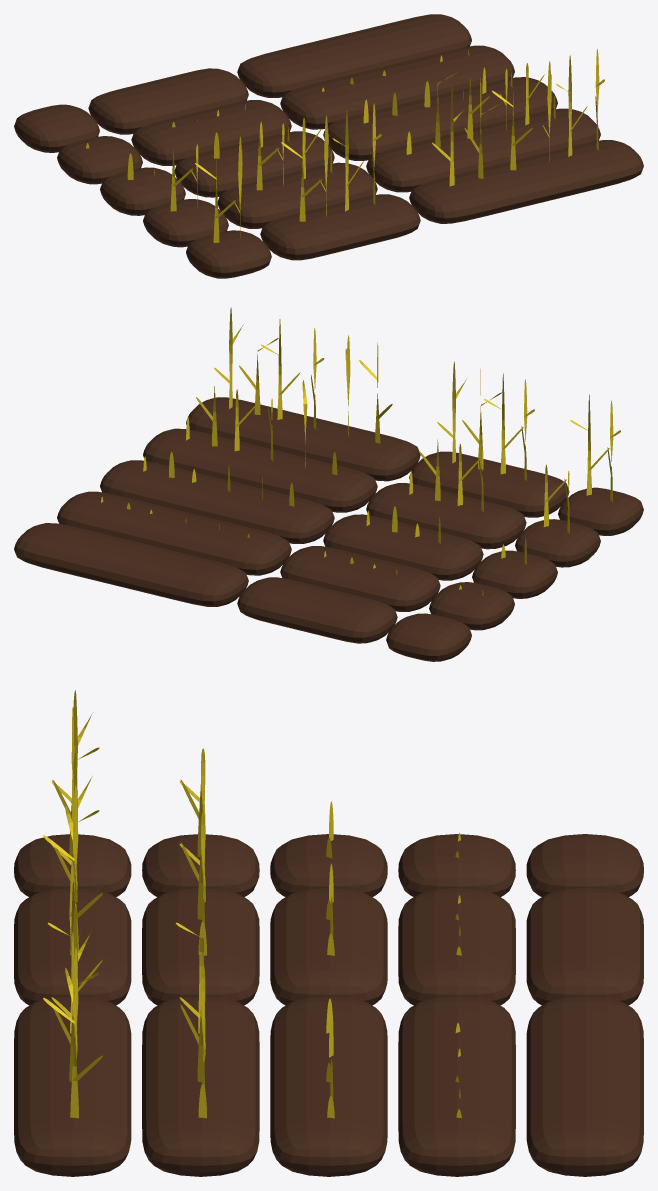
The model's file is straw_plant.glb.
3 views of the same model, one above another, from view 1: azimuth 30°, elevation 25°; view 2: azimuth 150°, elevation 25°; view 3: azimuth 270°, elevation 25° (orthographic). The views are drawn at different scales.
Visible parts, largest first — view 1: l_4, l_3, l_0, l_1, l_2, m_4, m_3, m_0, m_1, m_2, s_4, s_3 (+3 smaller); view 2: l_4, l_0, l_3, l_2, l_1, m_4, m_0, m_3, m_2, m_1, s_4, s_3 (+3 smaller); view 3: l_4, l_3, l_1, l_2, l_0, m_4, m_3, m_2, m_0, m_1, s_4, s_3 (+3 smaller).
Part boxes in pixels (bbox=[...]): l_4: bbox=[409, 49, 643, 223]; l_3: bbox=[366, 63, 600, 192]; l_0: bbox=[237, 14, 471, 97]; l_1: bbox=[280, 45, 514, 129]; l_2: bbox=[323, 67, 557, 160]; m_4: bbox=[260, 103, 420, 260]; m_3: bbox=[217, 117, 377, 228]; m_0: bbox=[88, 68, 248, 134]; m_1: bbox=[131, 100, 291, 165]; m_2: bbox=[175, 121, 334, 197]; s_4: bbox=[186, 137, 271, 278]; s_3: bbox=[143, 144, 228, 247]; l_4: bbox=[186, 307, 420, 481]; l_0: bbox=[14, 523, 248, 606]; l_3: bbox=[143, 380, 377, 512]; l_2: bbox=[100, 451, 334, 543]; l_1: bbox=[57, 491, 291, 575]; m_4: bbox=[409, 361, 569, 517]; m_0: bbox=[237, 577, 397, 643]; m_3: bbox=[366, 439, 526, 549]; m_2: bbox=[323, 506, 483, 580]; m_1: bbox=[280, 546, 440, 611]; s_4: bbox=[558, 394, 643, 535]; s_3: bbox=[515, 464, 600, 567]; l_4: bbox=[14, 861, 131, 1176]; l_3: bbox=[142, 922, 259, 1176]; l_1: bbox=[398, 996, 515, 1176]; l_2: bbox=[270, 996, 387, 1176]; l_0: bbox=[526, 996, 643, 1176]; m_4: bbox=[14, 753, 131, 1005]; m_3: bbox=[142, 811, 259, 1005]; m_2: bbox=[270, 864, 387, 1005]; m_0: bbox=[526, 888, 643, 1005]; m_1: bbox=[398, 888, 515, 1005]; s_4: bbox=[14, 690, 131, 896]; s_3: bbox=[142, 748, 259, 897].
Size of the model in its own units: 11.84 by 3.4 by 9.83.
